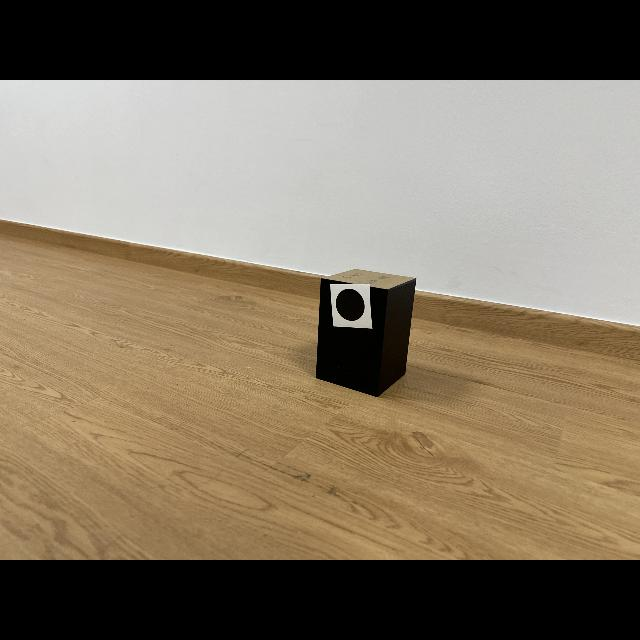CIRCLE: (336, 289, 365, 321)
